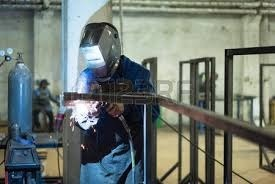person without safety: (56, 19, 162, 184)
